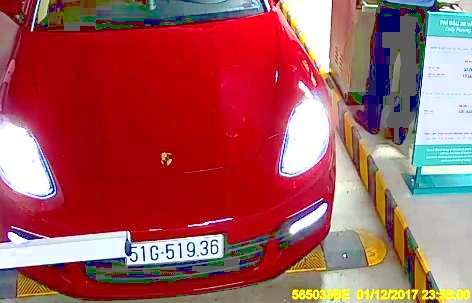plate: (121, 236, 226, 267)
